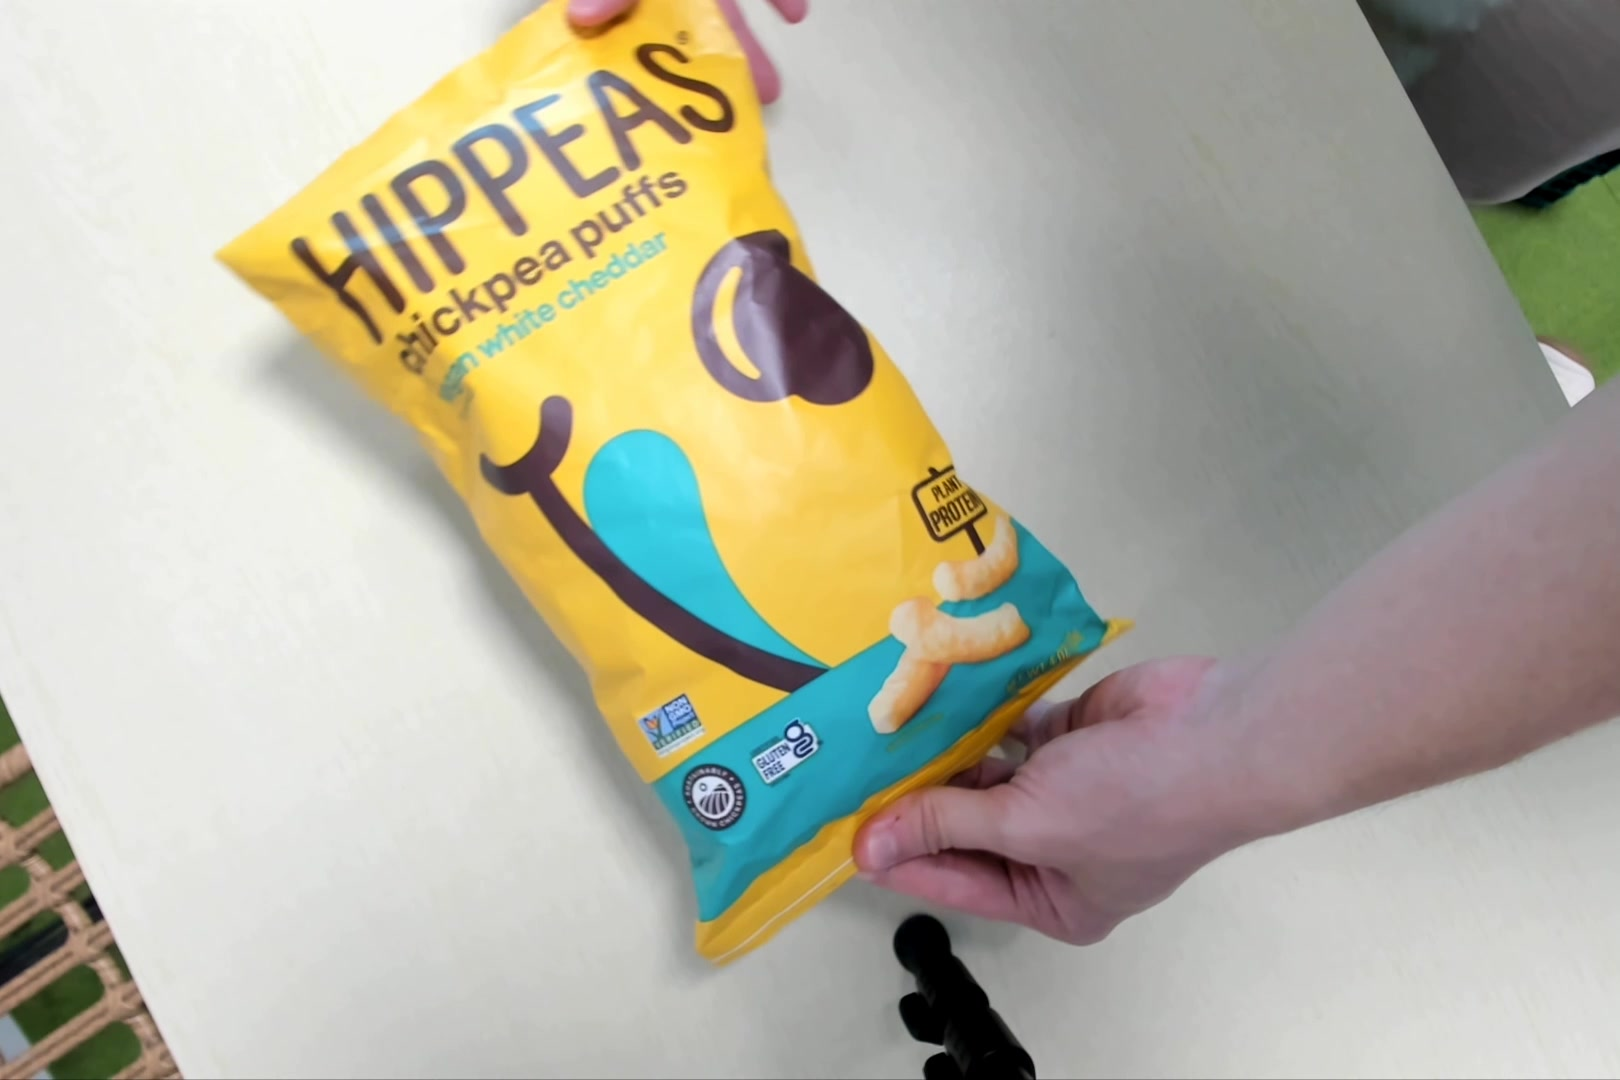PotatoChipsKeropok_100-199g_NonHalal_NonHealthy: (236, 6, 1134, 958)
